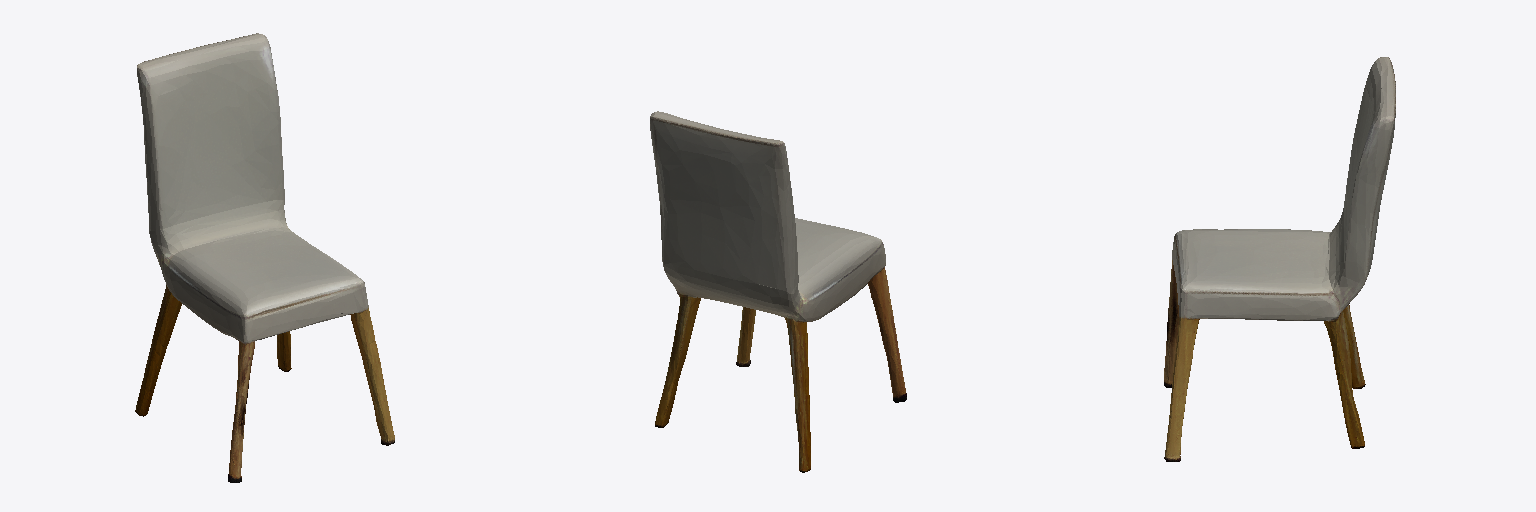
3 views of the same model, side by side, from view 1: azimuth 30°, elevation 25°; view 2: azimuth 150°, elevation 25°; view 3: azimuth 270°, elevation 25° (orthographic).
Size of the model in its own units: 0.3016 by 0.5796 by 0.3629.
1 materials, 1 textured.